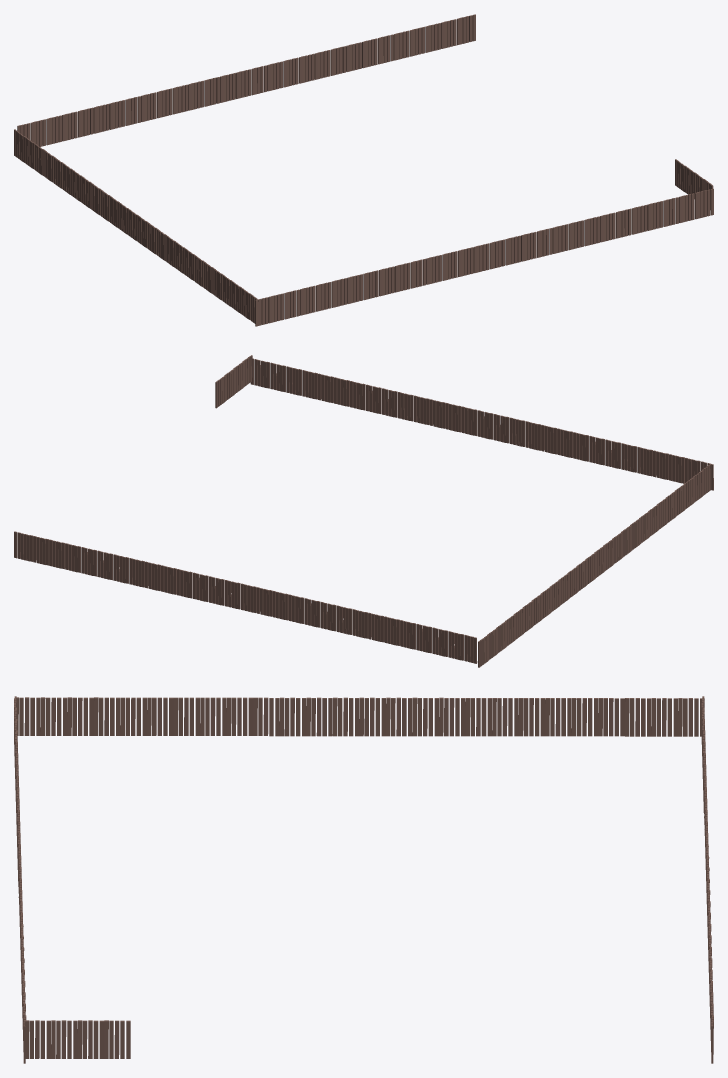
Rendered from TPCS_Zaun_003.fbx.
The picture shows the model from 3 angles, top to bottom: view 1: azimuth 30°, elevation 25°; view 2: azimuth 150°, elevation 25°; view 3: azimuth 270°, elevation 25°; orthographic projection. The views are drawn at different scales.
Parts seen in each view (by area): view 1: Cube.003; view 2: Cube.003; view 3: Cube.003.
Part boxes in pixels (x1,y1,x2,y2): Cube.003: [14, 14, 713, 326]; Cube.003: [14, 355, 713, 667]; Cube.003: [14, 696, 713, 1063].
Bounding box in the file's own units: 1599 × 96.18 × 1443.
